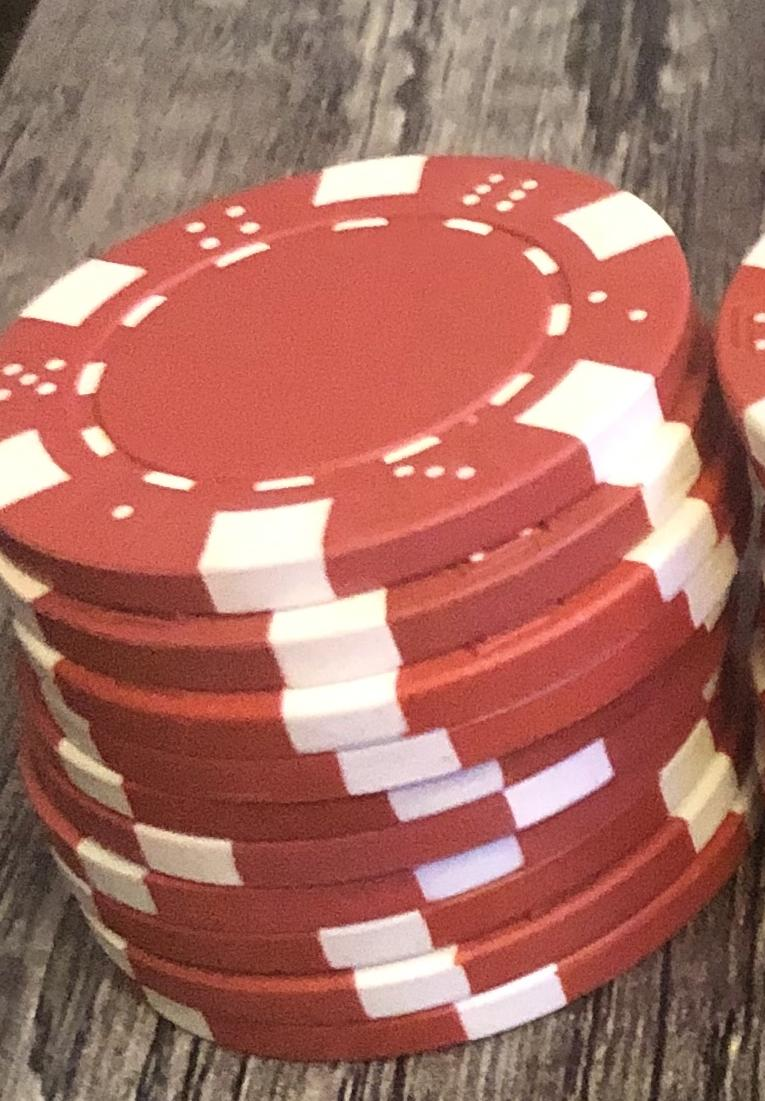Chip: (1, 1, 765, 1101)
